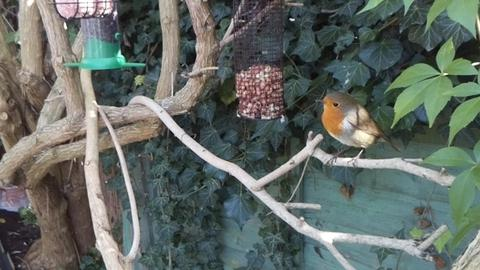robin: (315, 92, 404, 172)
